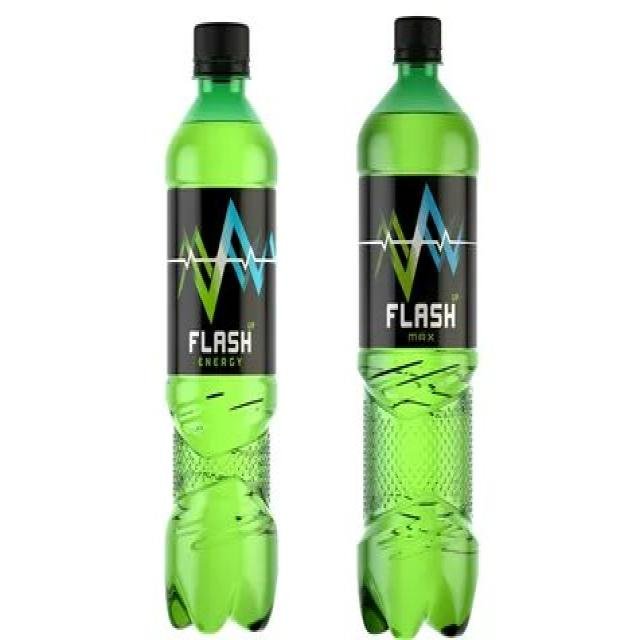green: (356, 65, 478, 640), (167, 78, 277, 630)
